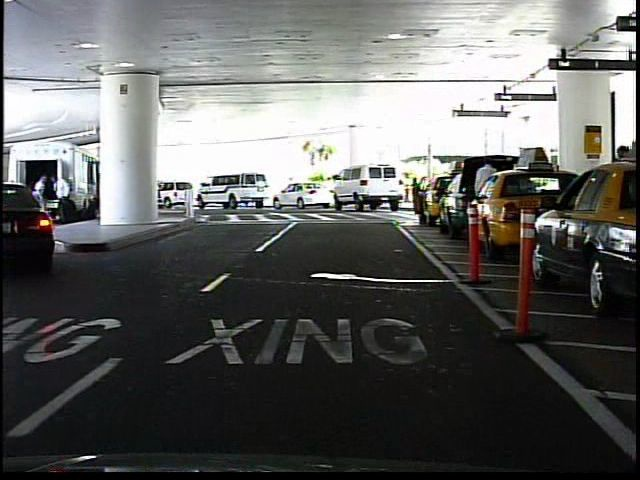person: (468, 154, 501, 240), (408, 174, 424, 208), (282, 173, 298, 204)
